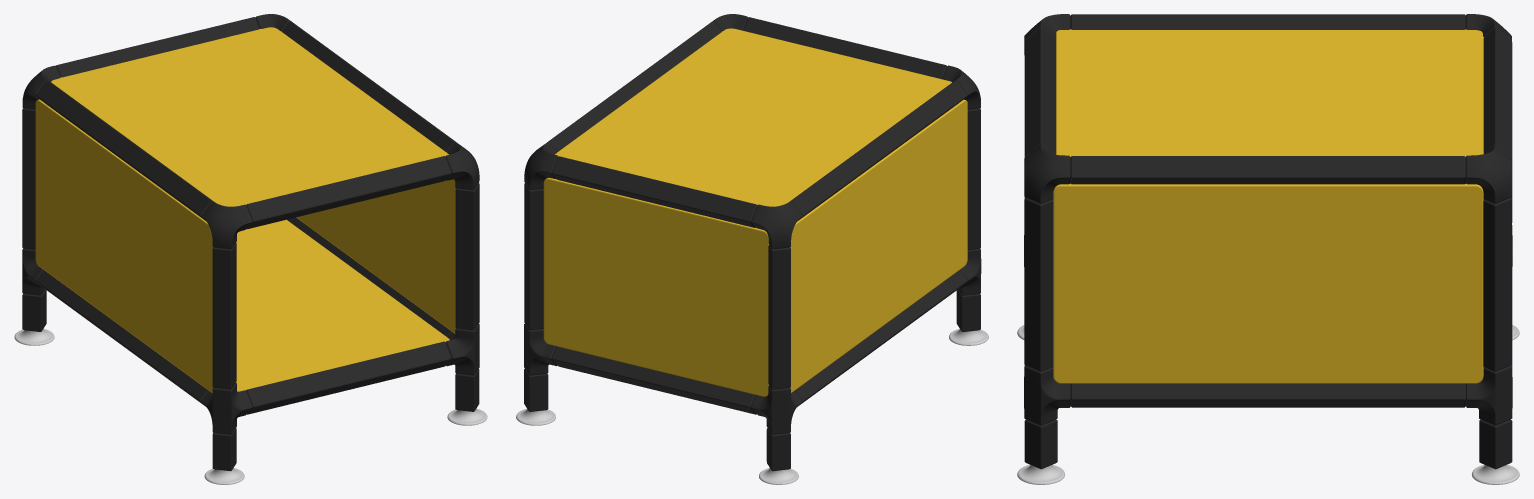
The picture shows the model from 3 angles, left to right: view 1: azimuth 30°, elevation 25°; view 2: azimuth 150°, elevation 25°; view 3: azimuth 270°, elevation 25°; orthographic projection. The views are drawn at different scales.
Visible parts, largest first — view 1: 229x329x154; view 2: 229x329x154; view 3: 229x329x154.
Boxes of the visible parts, bbox=[...] form: 229x329x154: bbox=[14, 14, 487, 484]; 229x329x154: bbox=[516, 14, 988, 484]; 229x329x154: bbox=[1017, 14, 1519, 484].
Size of the model in its own units: 0.3189 by 0.2933 by 0.4182.
